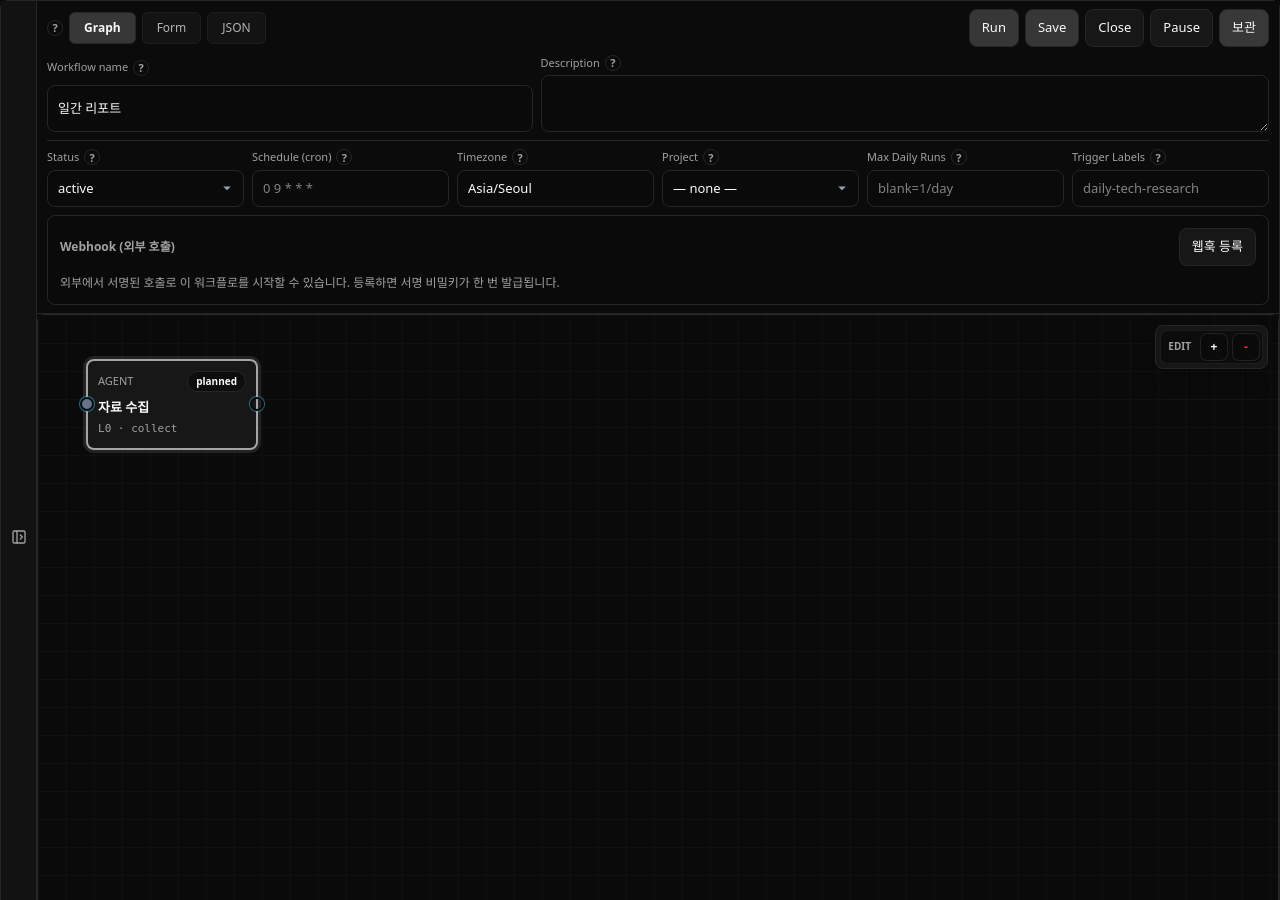
WorkflowGraphEditor details popup › renders the details popup as a fixed overlay above the workspace
Double-click the button "agent planned 자료 수집 L0 · collect" at (172, 404), box [86, 358, 258, 450]
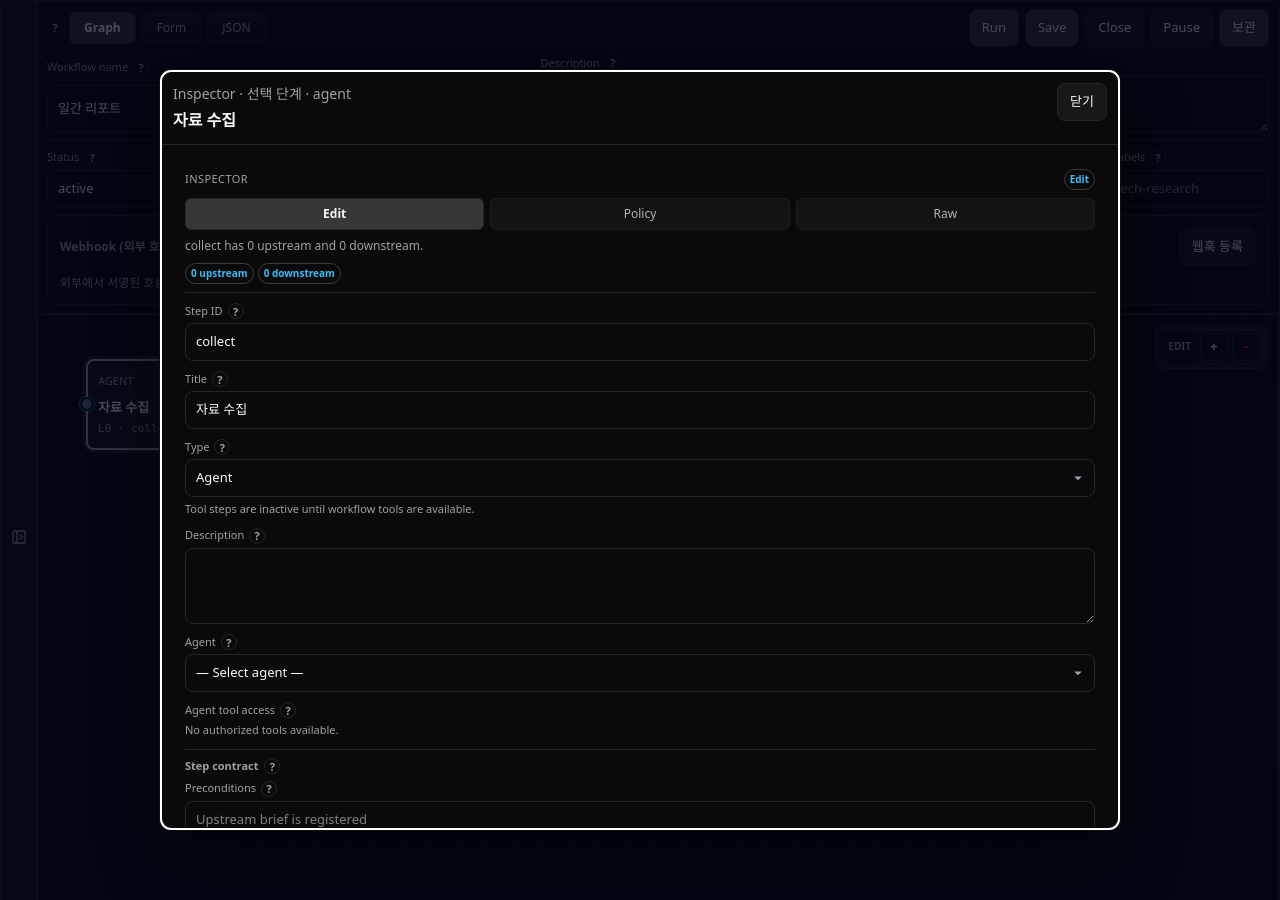
Expected: the dialog is shown
